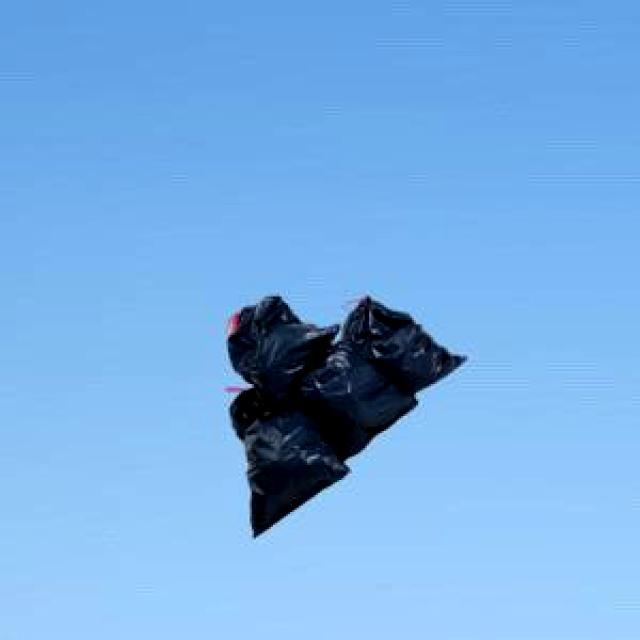Garbage_Bag: (223, 294, 462, 534)
